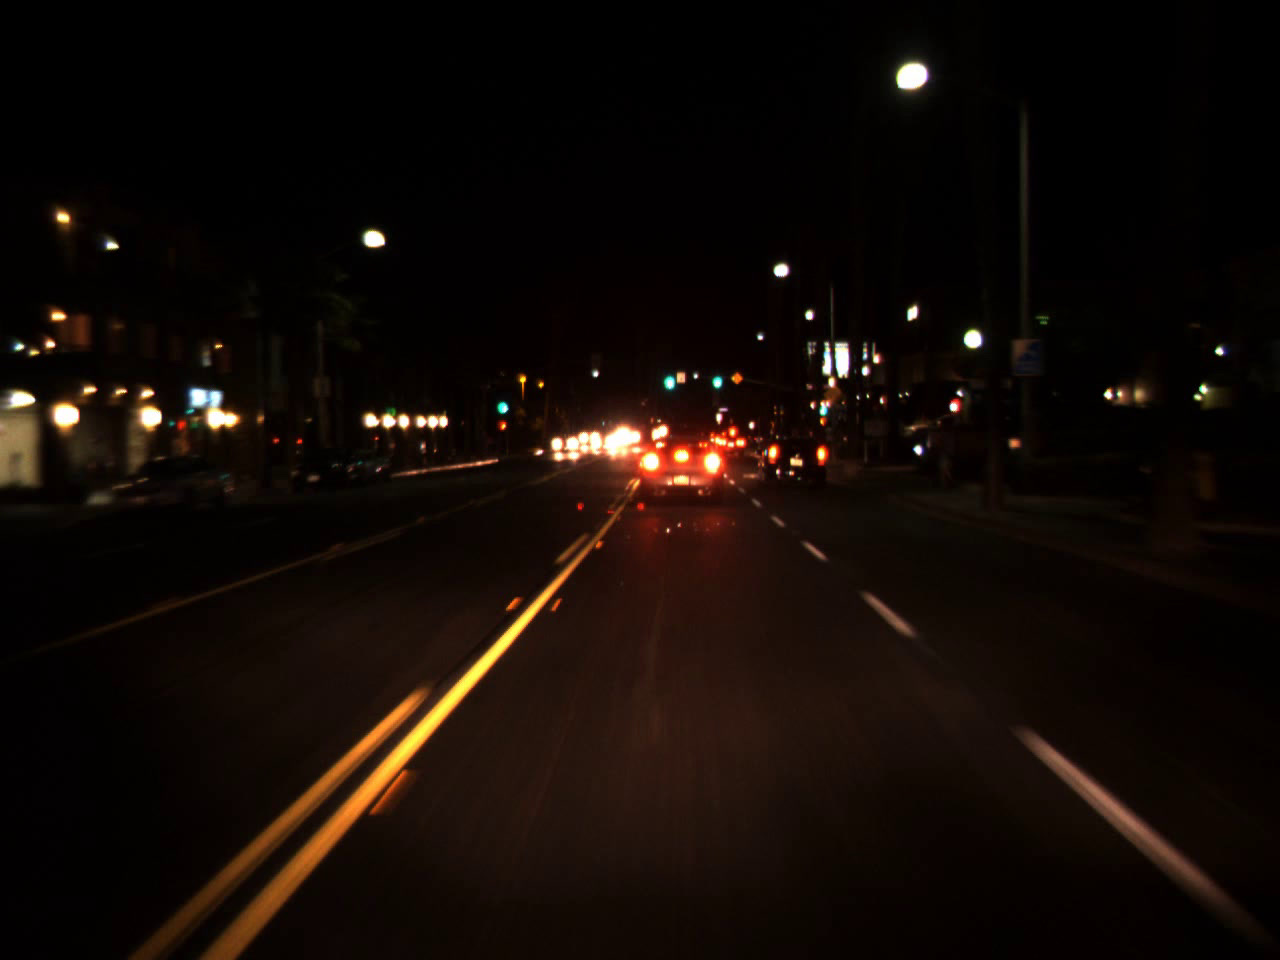go: (660, 359, 676, 395), (495, 388, 507, 418), (710, 369, 724, 387)
